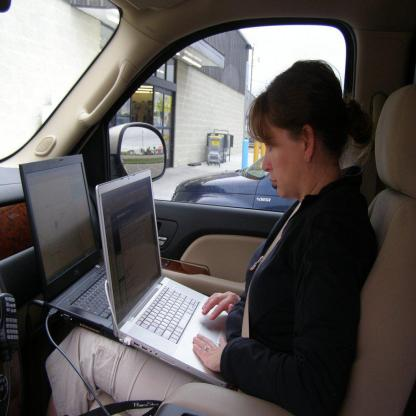board: (90, 163, 237, 392), (19, 153, 137, 350)
